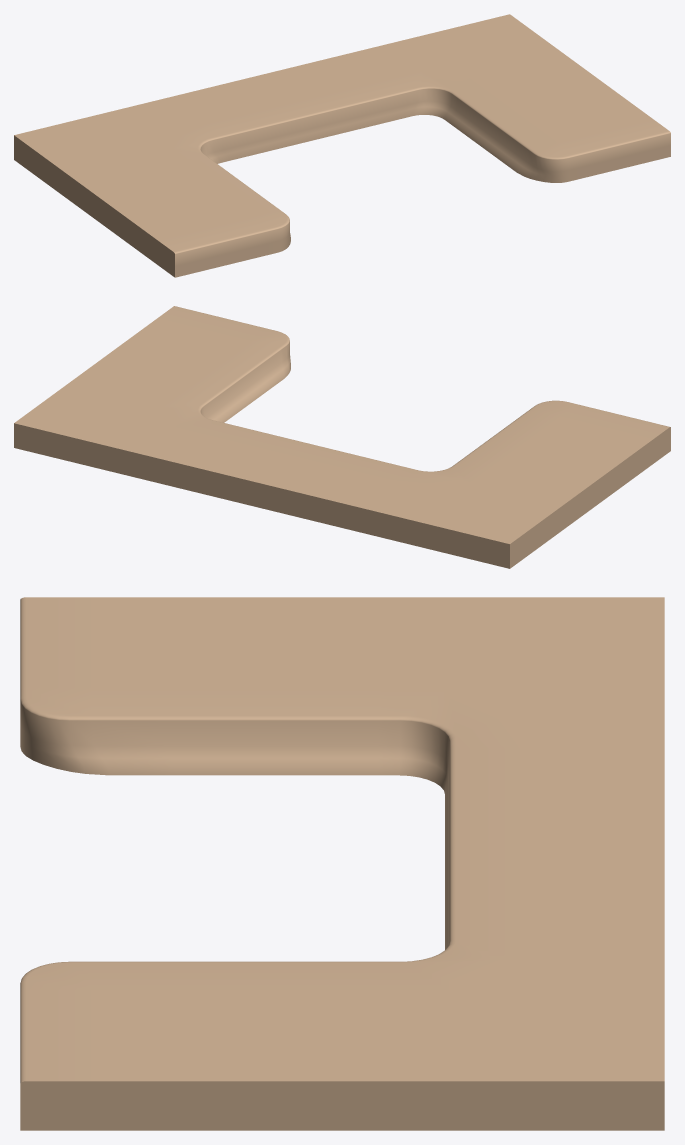
File: BackgroundDag.fbx
The picture shows the model from 3 angles, top to bottom: view 1: azimuth 30°, elevation 25°; view 2: azimuth 150°, elevation 25°; view 3: azimuth 270°, elevation 25°; orthographic projection. The views are drawn at different scales.
Parts seen in each view (by area): view 1: Cube.001; view 2: Cube.001; view 3: Cube.001.
Part boxes in pixels (x1,y1,x2,y2): Cube.001: [14, 14, 670, 277]; Cube.001: [14, 306, 670, 568]; Cube.001: [20, 597, 664, 1130].
Bounding box in the file's own units: 3200 × 152 × 1800.
